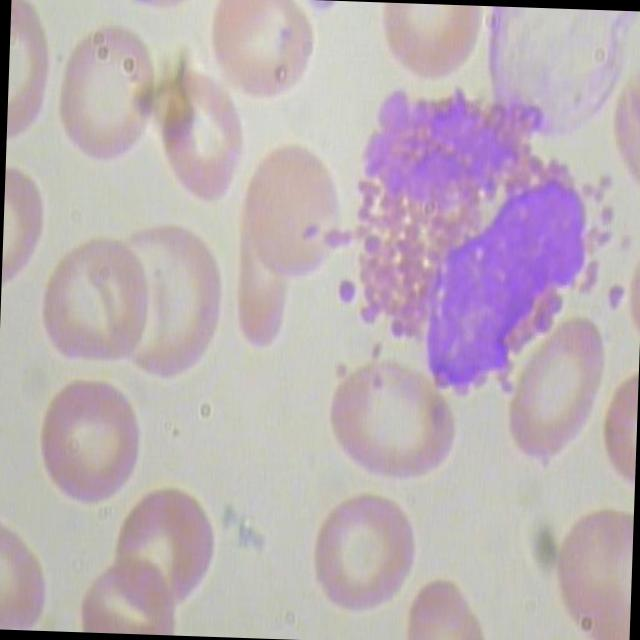RBC: (105, 216, 226, 390), (306, 356, 459, 484), (502, 306, 613, 470), (26, 372, 153, 512), (108, 477, 228, 621), (49, 22, 159, 170), (242, 138, 348, 284), (305, 493, 425, 618), (150, 59, 241, 214), (38, 236, 148, 364), (200, 0, 330, 101), (232, 190, 290, 370)
WBC: (290, 64, 640, 410)
